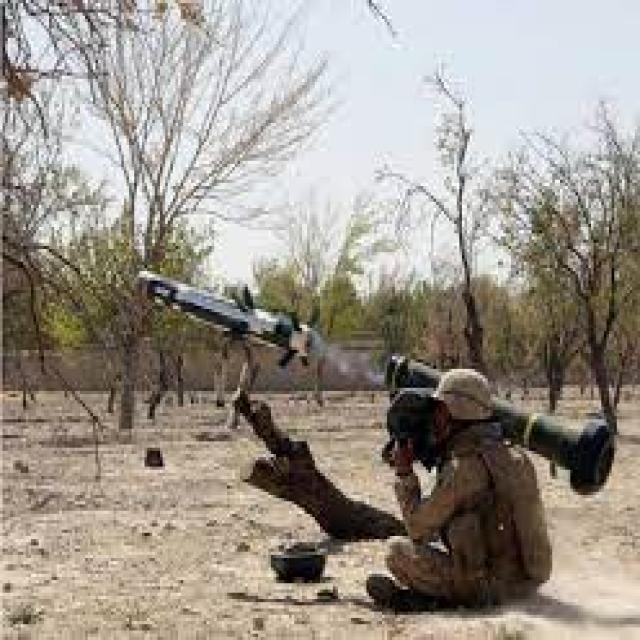bazooka: (360, 324, 622, 516)
